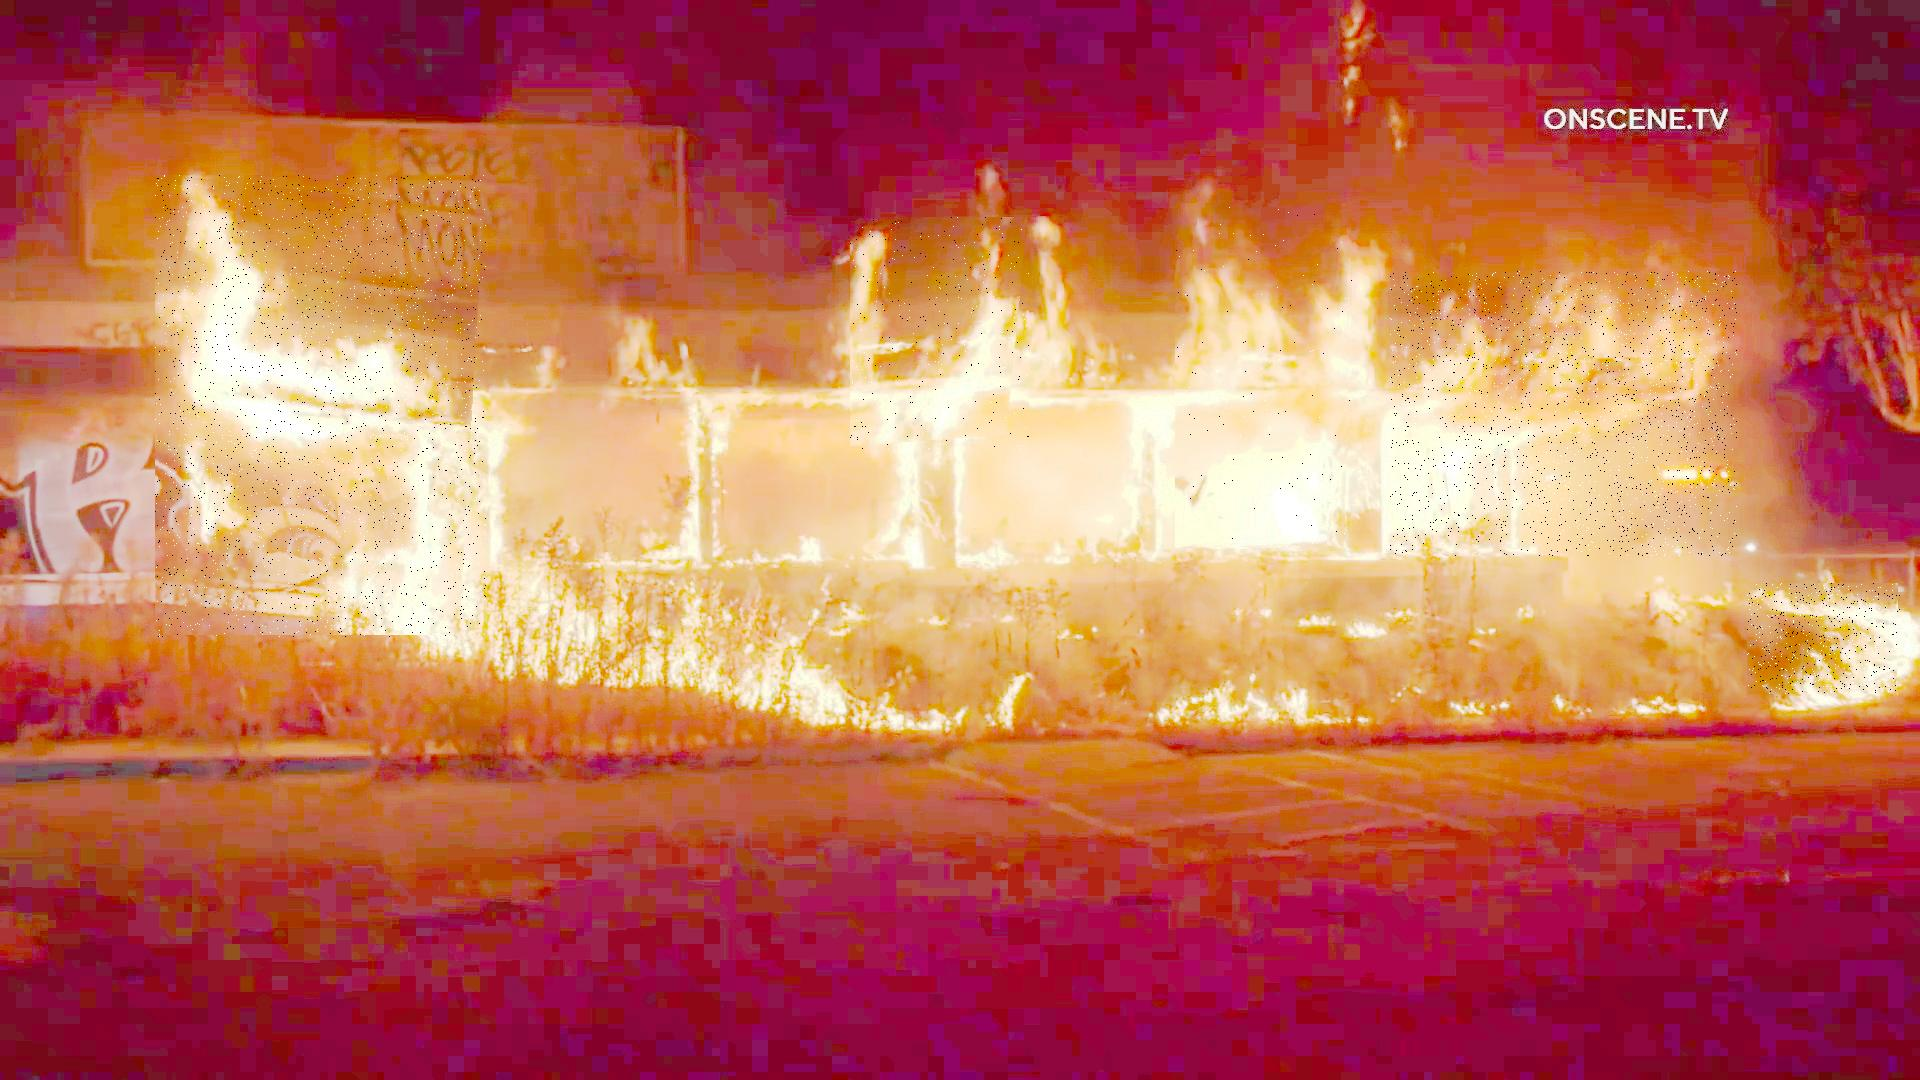fire: (156, 175, 487, 638), (1391, 270, 1738, 556), (1176, 203, 1354, 549), (851, 218, 1029, 451), (1747, 583, 1900, 694)
